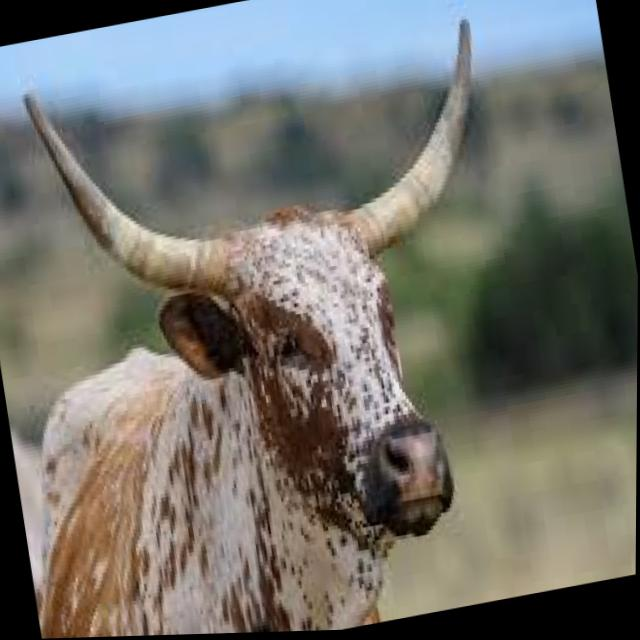cowFace: (14, 11, 555, 604)
